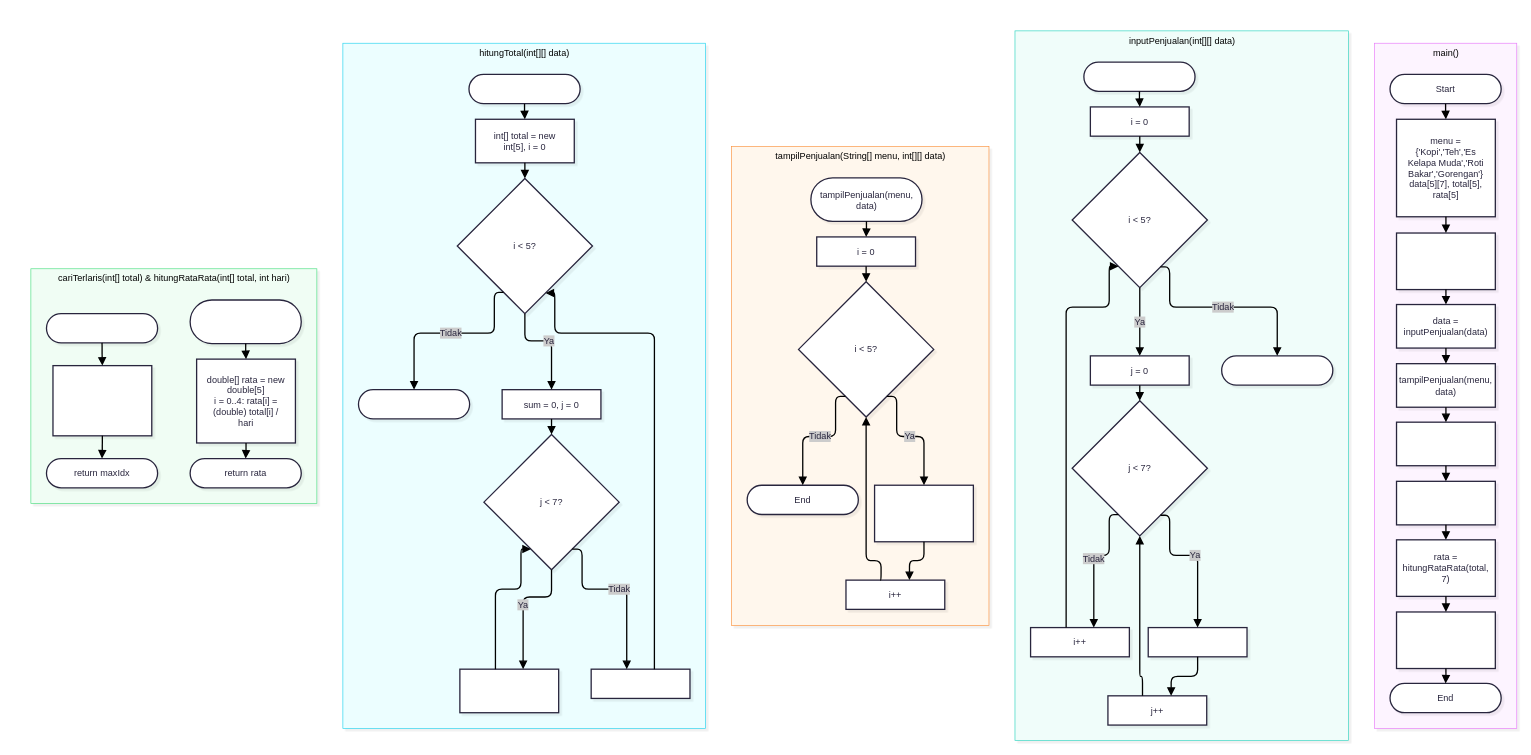
Image size: 1531x755. Some labels were removed from this diagram. The centre of each missing label's shape, as x and y in pixels:
"/Input data[i][j]/" goes at pixel 1198 643.
"/Input pilihan: isi manual atau pakai data tabel/" goes at pixel 1447 262.
"/Tampilkan menu[i] & seluruh data[i][0..6]/" goes at pixel 925 514.
"/Tampilkan total per menu, menu terlaris & rata-rata/" goes at pixel 1447 641.
"cariTerlaris(total)" goes at pixel 103 329.
"hitungRataRata(total, hari)" goes at pixel 246 322.
"hitungTotal(data)" goes at pixel 525 90.
"idxTerlaris = cariTerlaris(total)" goes at pixel 1447 504.
"inputPenjualan(data)" goes at pixel 1140 77.
"maxIdx = 0; i = 1..4: jika total[i] > total[maxIdx] -> maxIdx = i" goes at pixel 103 402.
"return data" goes at pixel 1278 371.
"return total" goes at pixel 415 405.
"sum += data[i][j]; j++" goes at pixel 510 692.
"total = hitungTotal(data)" goes at pixel 1447 445.
"total[i] = sum; i++" goes at pixel 641 684.
